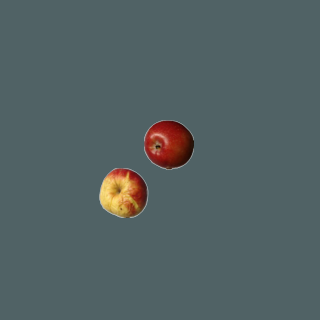Apple Braeburn: (143, 119, 193, 169)
Apple Red Yellow 1: (98, 167, 148, 217)
